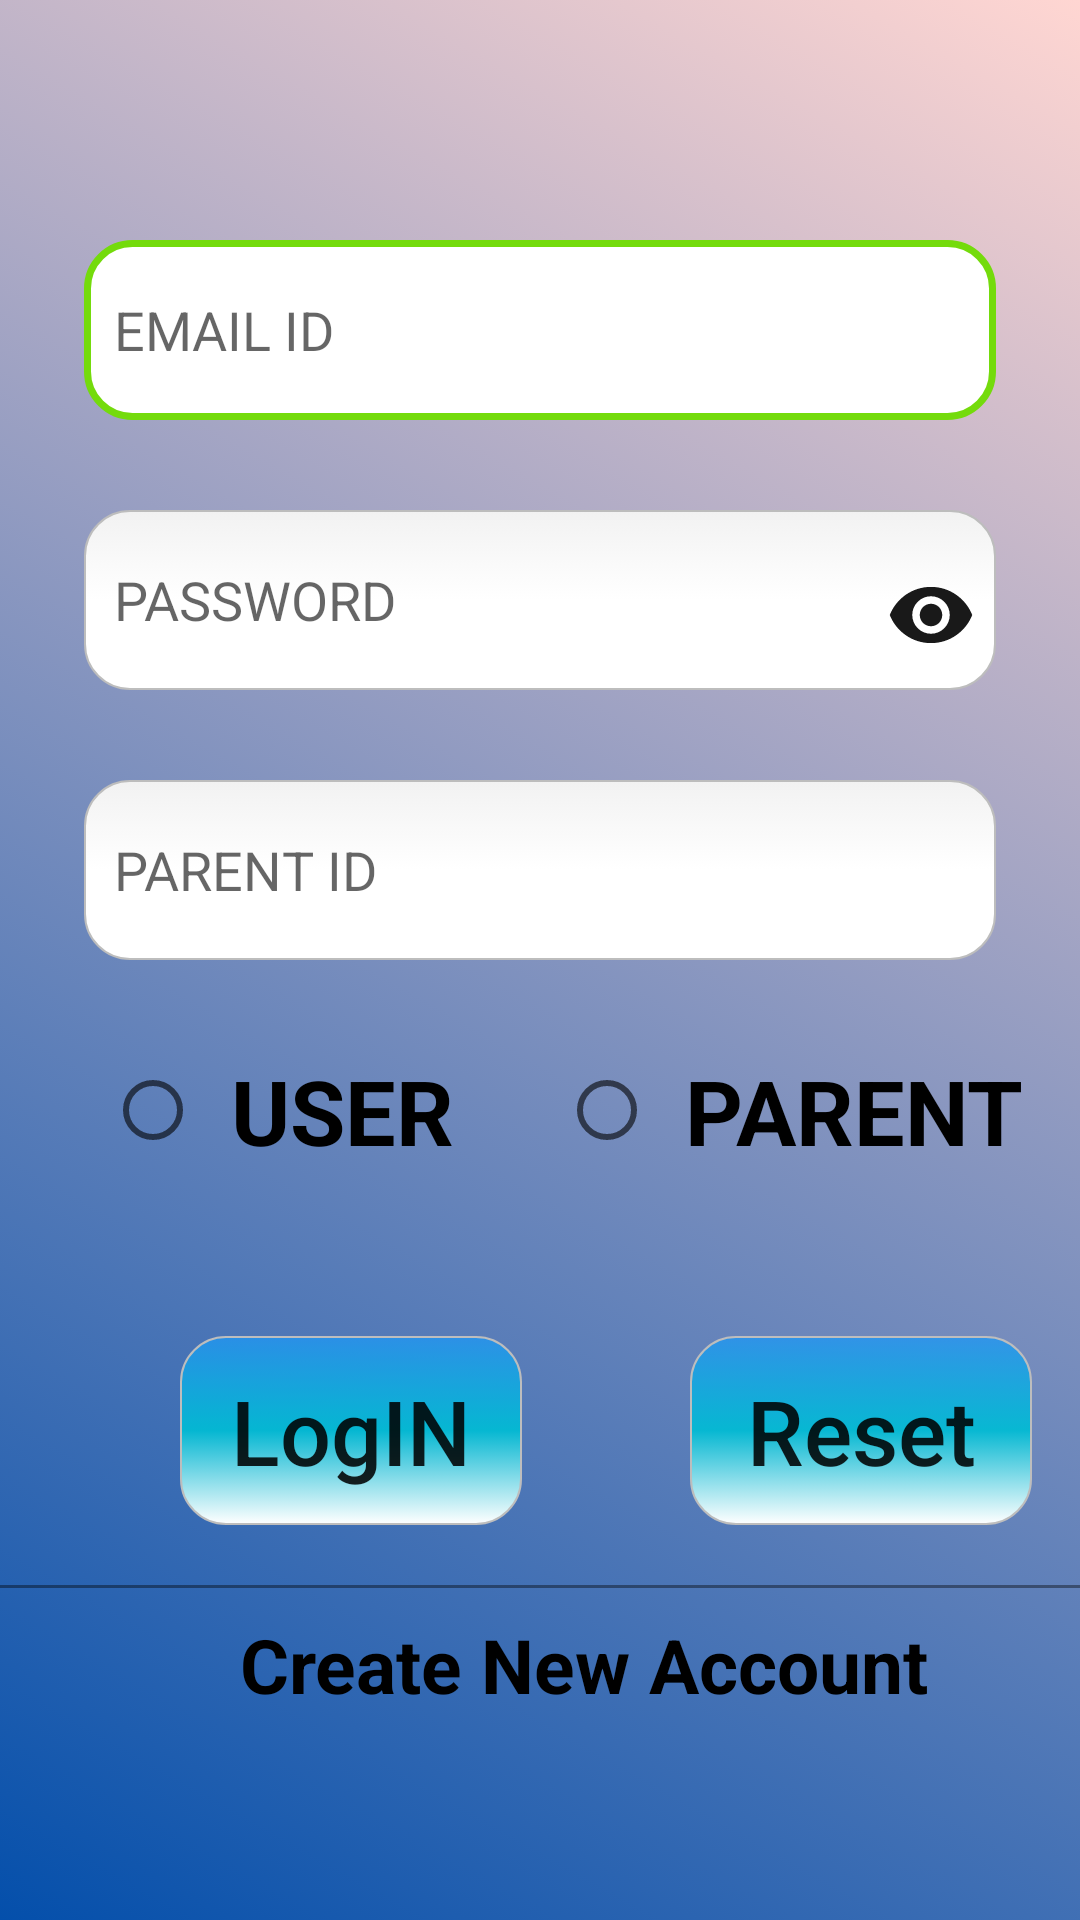

Screen size 1080 x 1920. Icon name, then its center in pixels as [x,y]:
eye: [931,615]
